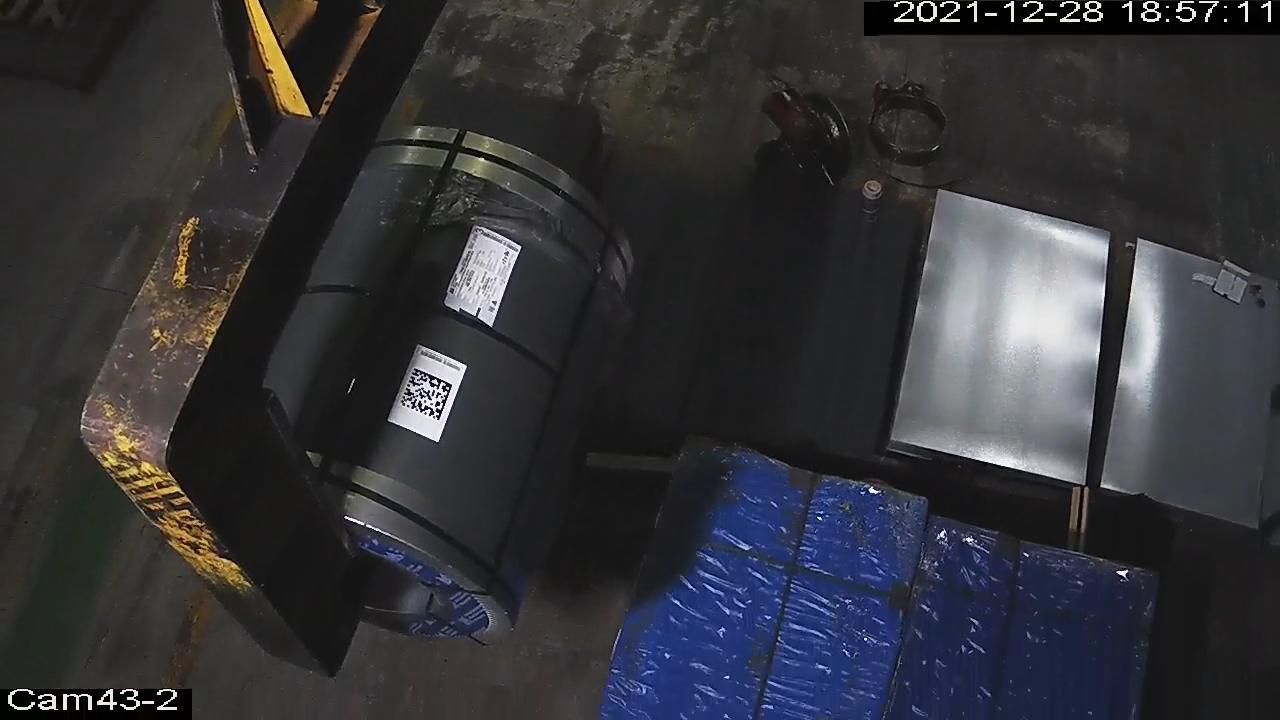data matrix: (399, 367, 455, 423)
